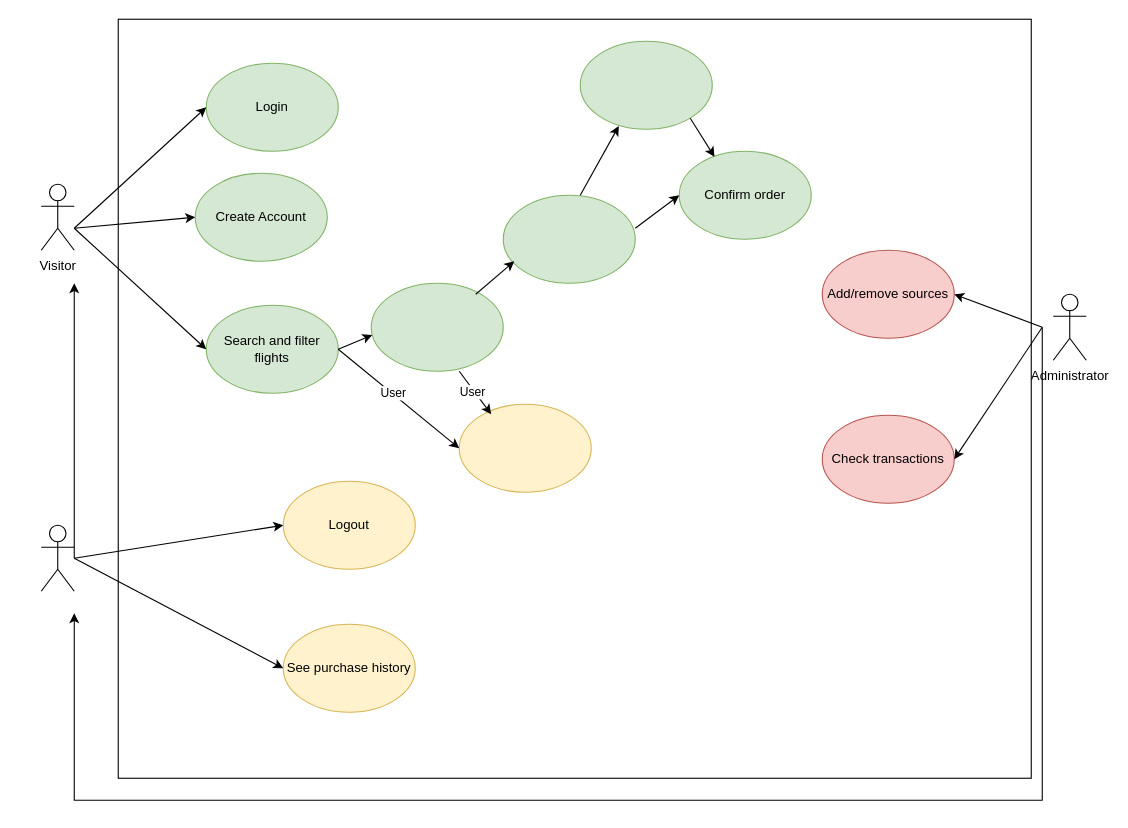
Some shapes in this 1128 by 828 pixel diagram are drawn without their labels. The shapes that lost their labels are listed below. From the top down, each one's centre as x and y in pixels, then its label:
At point 645,84: "Reserve flight".
At point 568,238: "Place order".
At point 436,326: "Choose flight".
At point 524,447: "Favorite/unfavorite".
At point 57,557: "Regular User".
